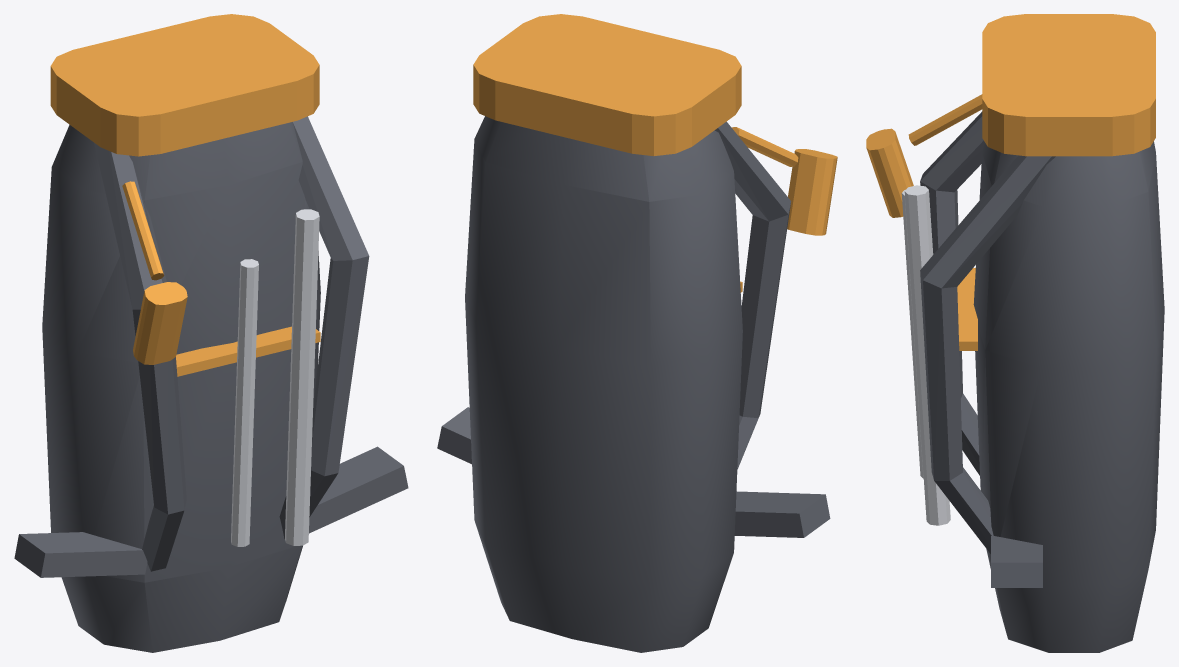
Rendered from backcountry-snowboarding-and-avalanche-safety-airbag-b-e7c07afe__18934.glb.
3 renders of one model, left to right at view 1: azimuth 30°, elevation 25°; view 2: azimuth 150°, elevation 25°; view 3: azimuth 270°, elevation 25°, orthographic.
Visible parts, largest first — view 1: airbag-backpack; view 2: airbag-backpack; view 3: airbag-backpack.
Part boxes in pixels (<box>): airbag-backpack: <box>14,14,408,652</box>; airbag-backpack: <box>437,14,837,652</box>; airbag-backpack: <box>866,14,1164,652</box>.
Size of the model in its own units: 0.4832 by 0.69 by 0.3433.
